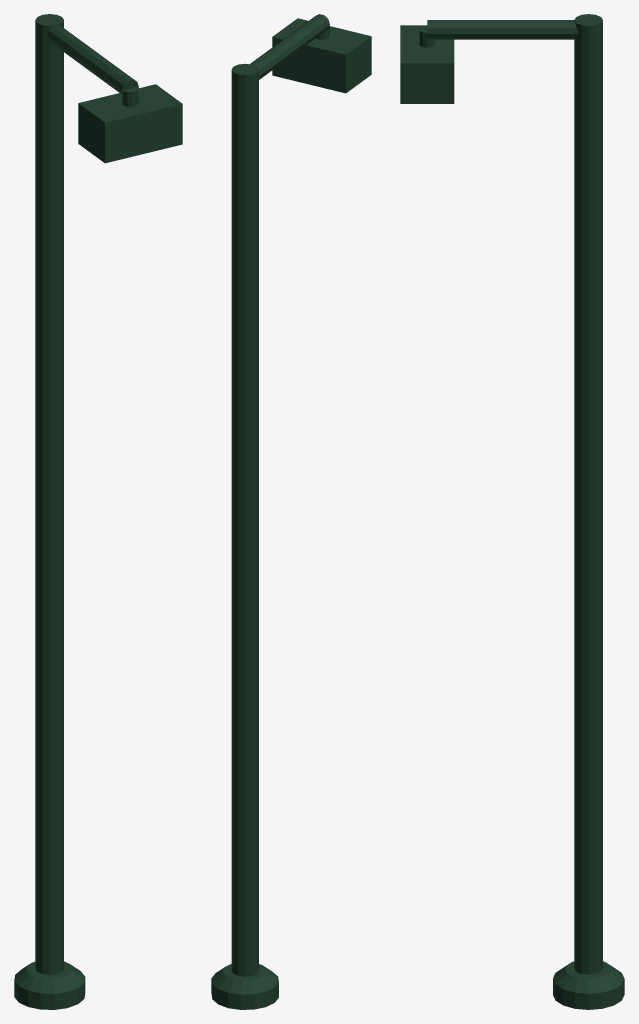
File: streetlight.glb
3 renders of one model, left to right at view 1: azimuth 30°, elevation 25°; view 2: azimuth 150°, elevation 25°; view 3: azimuth 270°, elevation 25°, orthographic. The views are drawn at different scales.
Parts seen in each view (by area): view 1: body; view 2: body; view 3: body.
Part boxes in pixels (left/top/right/bottom): body: left=14, top=14, right=182, bottom=1009; body: left=211, top=14, right=371, bottom=1009; body: left=400, top=14, right=624, bottom=1009.
Size of the model in its own units: 0.5 by 6 by 1.25.
